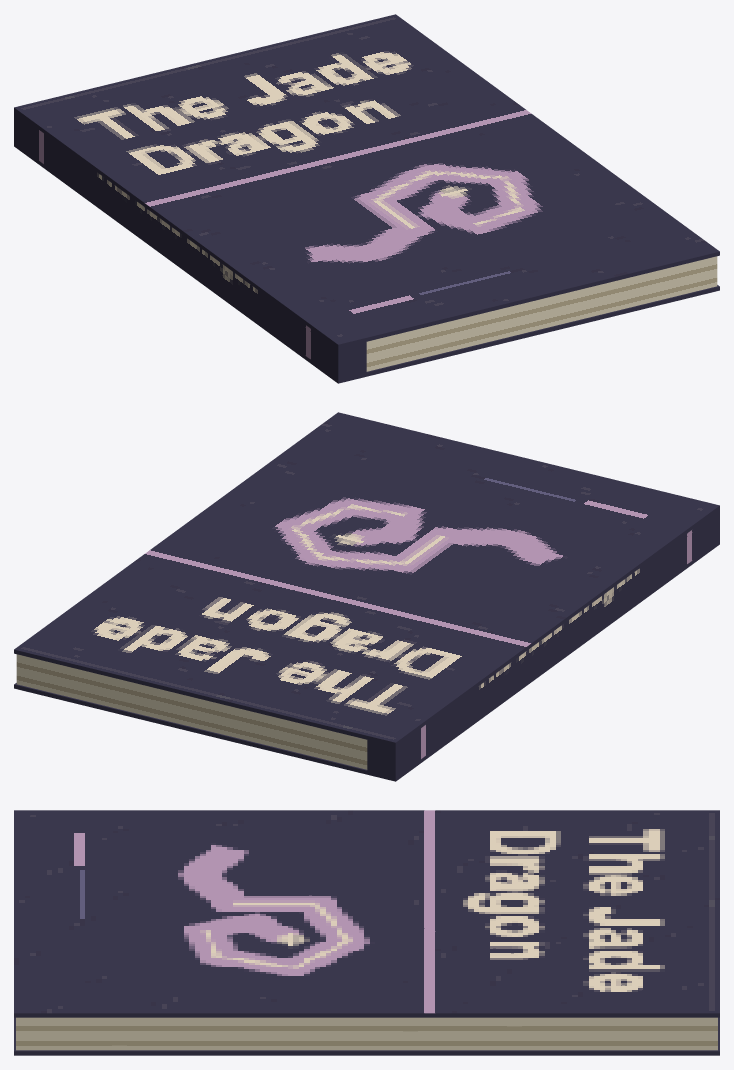
File: manual_dragon.glb
The picture shows the model from 3 angles, top to bottom: view 1: azimuth 30°, elevation 25°; view 2: azimuth 150°, elevation 25°; view 3: azimuth 270°, elevation 25°; orthographic projection. The views are drawn at different scales.
Parts seen in each view (by area): view 1: block_front cover, block_spine, block_page block, block_back cover; view 2: block_front cover, block_spine, block_page block, block_back cover; view 3: block_front cover, block_page block, block_back cover.
Part boxes in pixels (left/top/right/bottom): block_front cover: left=14, top=14, right=719, bottom=348; block_spine: left=14, top=111, right=366, bottom=379; block_page block: left=366, top=256, right=717, bottom=371; block_back cover: left=14, top=142, right=719, bottom=383; block_front cover: left=14, top=412, right=719, bottom=746; block_spine: left=367, top=509, right=719, bottom=777; block_page block: left=16, top=654, right=367, bottom=769; block_back cover: left=14, top=540, right=719, bottom=781; block_front cover: left=14, top=810, right=719, bottom=1017; block_page block: left=16, top=1017, right=717, bottom=1050; block_back cover: left=14, top=1017, right=719, bottom=1055.
Bounding box in the file's own units: 0.1204 × 0.0117 × 0.177.
1 material, 1 textured.
